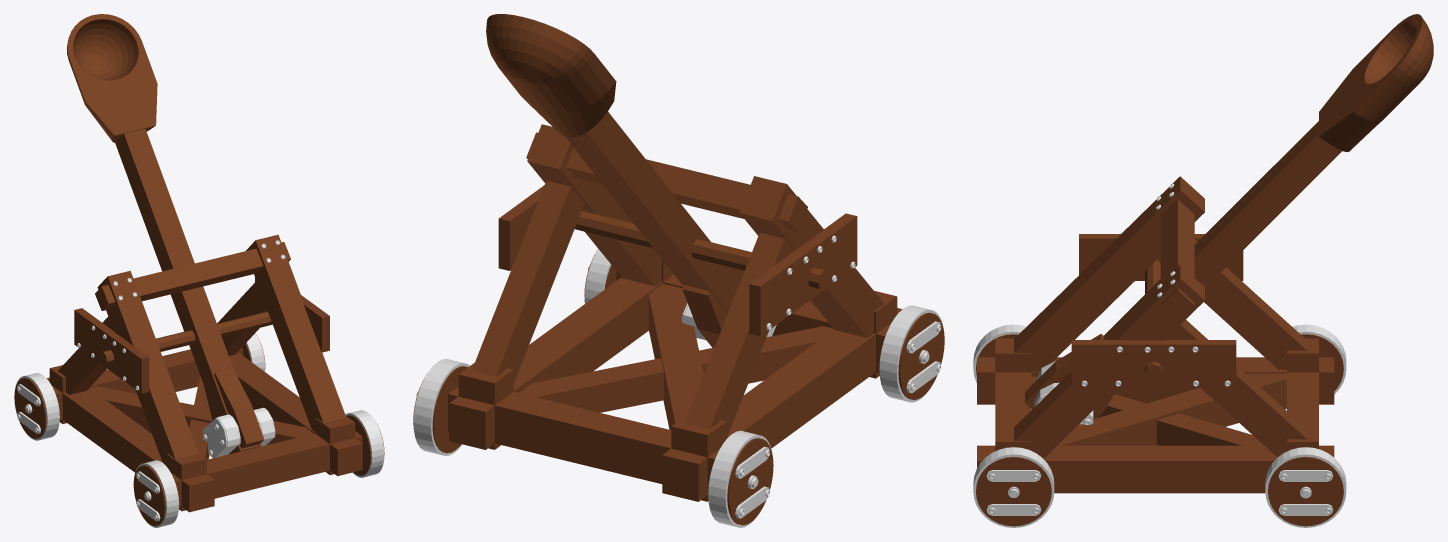
The picture shows the model from 3 angles, left to right: view 1: azimuth 30°, elevation 25°; view 2: azimuth 150°, elevation 25°; view 3: azimuth 270°, elevation 25°; orthographic projection. The views are drawn at different scales.
Visible parts, largest first — view 1: CatapultBody, CatapultArm; view 2: CatapultBody, CatapultArm; view 3: CatapultBody, CatapultArm.
Part boxes in pixels (<box>): CatapultBody: <box>14,234,384,527</box>; CatapultArm: <box>67,14,275,457</box>; CatapultBody: <box>413,124,944,527</box>; CatapultArm: <box>486,14,828,347</box>; CatapultBody: <box>973,176,1346,527</box>; CatapultArm: <box>1025,14,1433,424</box>.
Bounding box in the file's own units: 675 × 1029 × 970.
